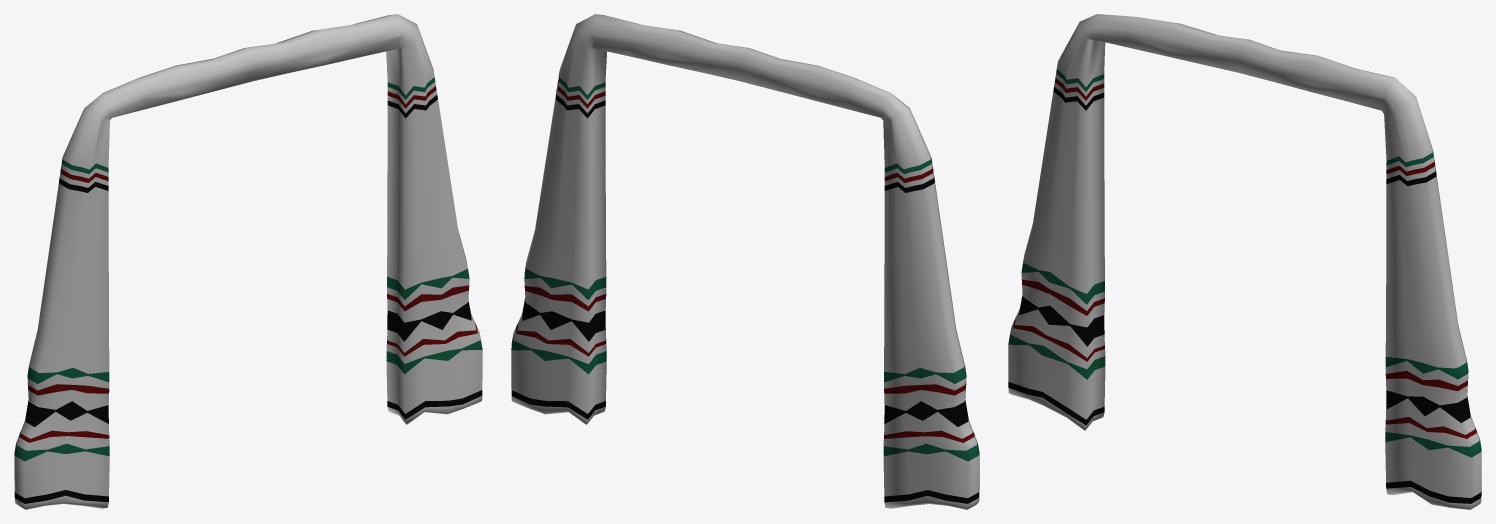
File: Embroidered_towel_for_portrets.fbx
3 views of the same model, side by side, from view 1: azimuth 30°, elevation 25°; view 2: azimuth 150°, elevation 25°; view 3: azimuth 330°, elevation 25° (orthographic).
Parts seen in each view (by area): view 1: embroidered_towel; view 2: embroidered_towel; view 3: embroidered_towel.
Part boxes in pixels (bbox=[...]): embroidered_towel: bbox=[14, 14, 482, 509]; embroidered_towel: bbox=[511, 14, 979, 509]; embroidered_towel: bbox=[1008, 14, 1481, 509].
Size of the model in its own units: 126 by 109 by 8.47.
